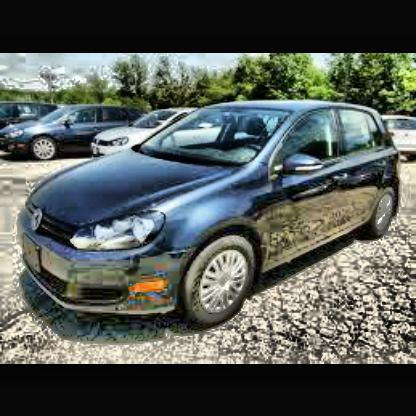Volkswagen Golf Hatchback 2012: (24, 103, 403, 334)
